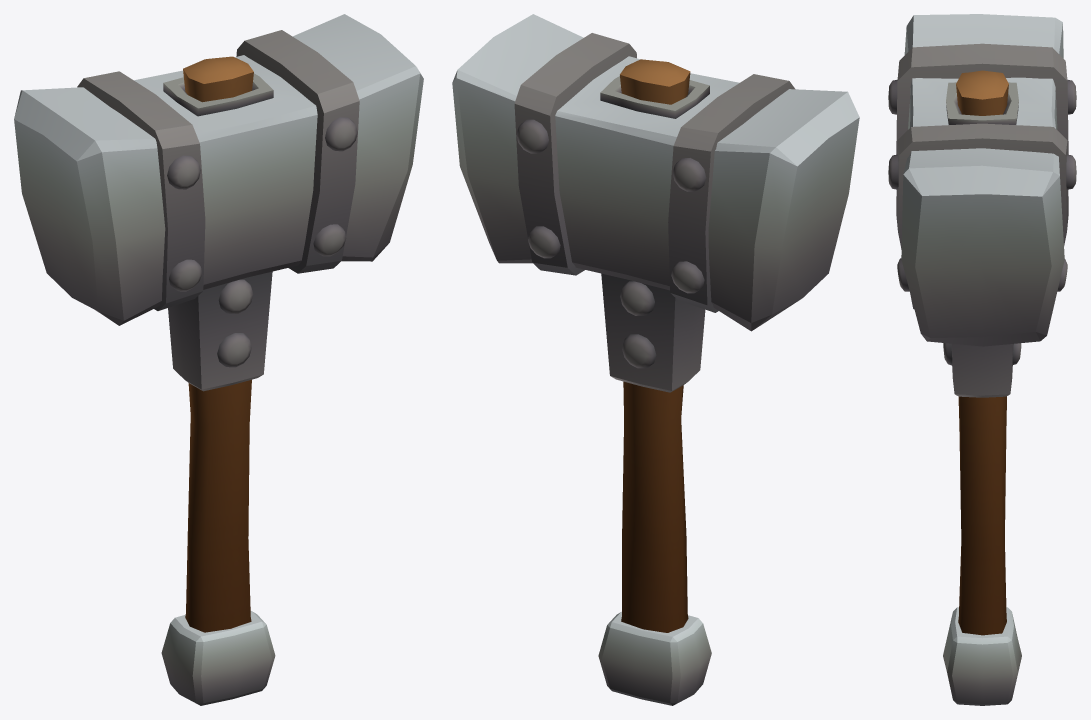
File: Hammer_06.glb
3 renders of one model, left to right at view 1: azimuth 30°, elevation 25°; view 2: azimuth 150°, elevation 25°; view 3: azimuth 270°, elevation 25°, orthographic. The views are drawn at different scales.
Parts seen in each view (by area): view 1: Hammer_06; view 2: Hammer_06; view 3: Hammer_06.
Part boxes in pixels (box(x1,y1,x2,y2)): Hammer_06: box(14, 14, 423, 705); Hammer_06: box(452, 14, 859, 705); Hammer_06: box(888, 14, 1076, 705).
Bounding box in the file's own units: 0.6369 × 1.08 × 0.301.
1 material, 1 textured.
